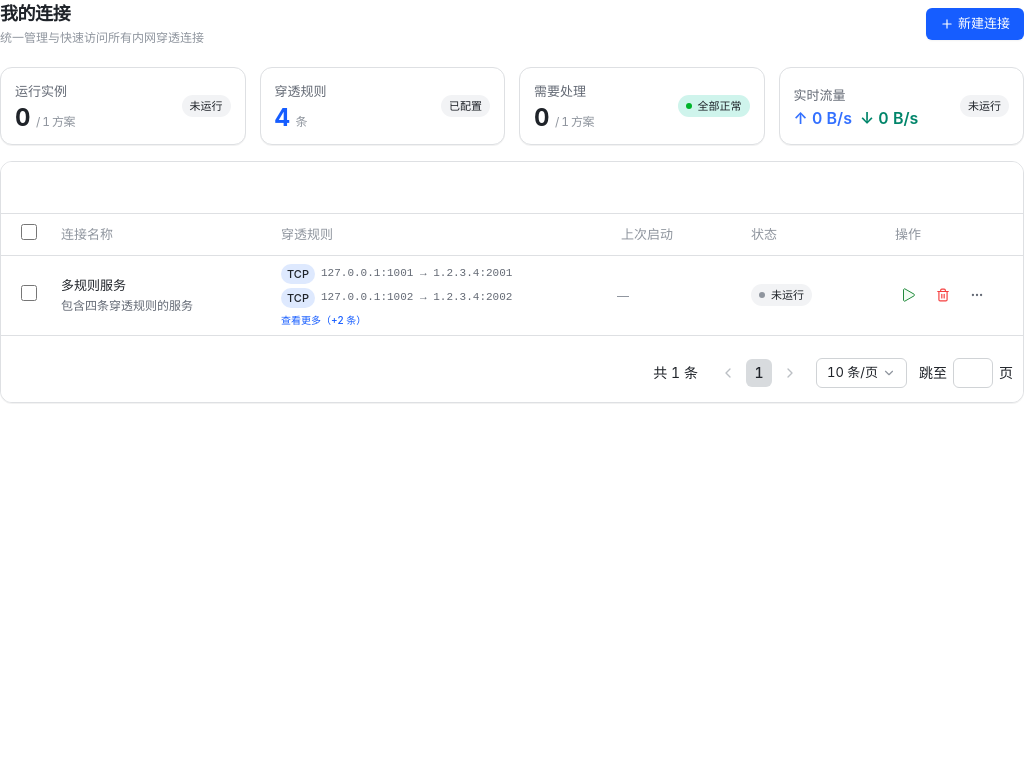
ProfileList (我的连接表格化呈现) › 任务 4：规则预览、弹层与固定 SVG 操作列 › 点击规则预览区域打开规则详情弹层，展示全部规则
Click the button with aria-label "查看 多规则服务 的穿透规则详情" at (435, 295), box [277, 260, 593, 330]
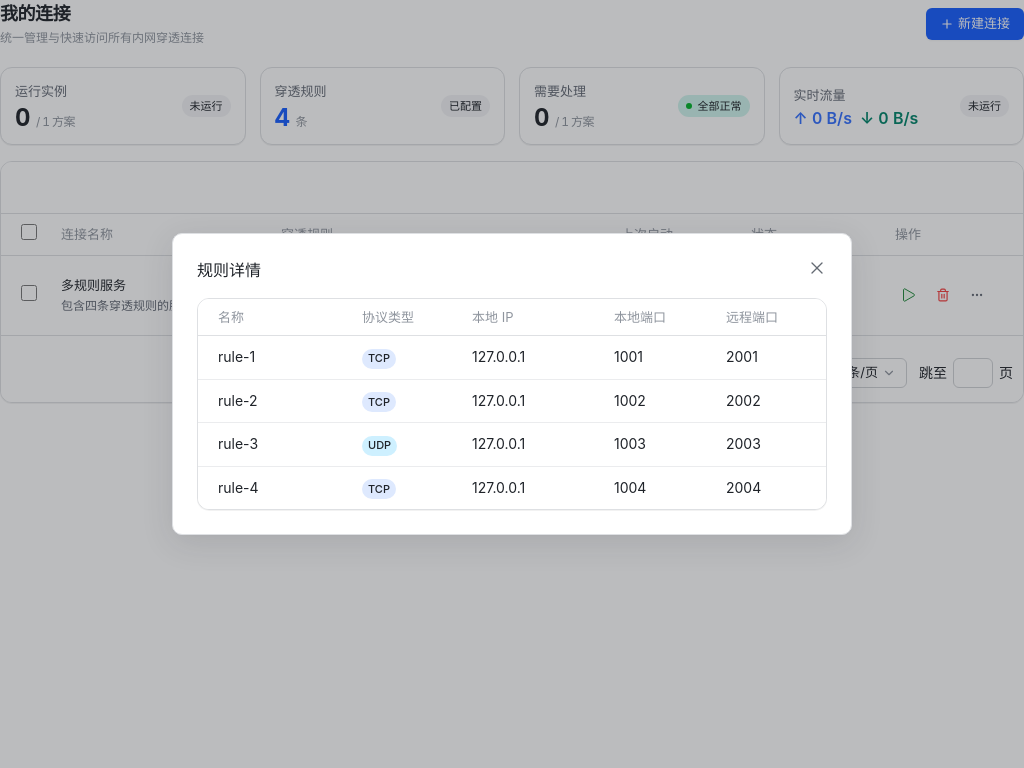
Expected: the text "规则详情" is shown, [197, 260, 261, 280]
Expected: the text "rule-1" is shown, [198, 336, 350, 379]
Expected: the text "rule-2" is shown, [198, 379, 350, 422]
